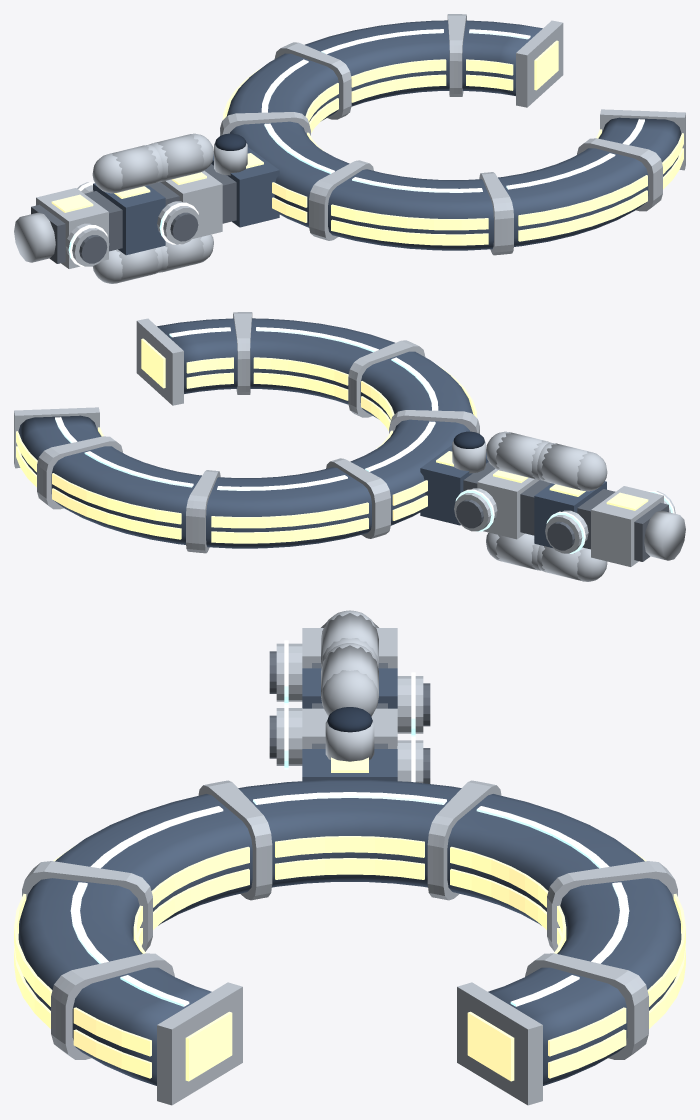
File: station-orbital-depot.glb
3 views of the same model, one above another, from view 1: azimuth 30°, elevation 25°; view 2: azimuth 150°, elevation 25°; view 3: azimuth 270°, elevation 25° (orthographic). The views are drawn at different scales.
Visible parts, largest first — view 1: concourse, spine, berth_2, berth_4; view 2: concourse, spine, berth_1, berth_3; view 3: concourse, spine, berth_4, berth_2, berth_3, berth_1.
Part boxes in pixels (x1=…): concourse: x1=220, y1=14, x2=685, y2=255; spine: x1=14, y1=133, x2=279, y2=283; berth_2: x1=157, y1=201, x2=200, y2=244; berth_4: x1=66, y1=223, x2=109, y2=266; concourse: x1=14, y1=312, x2=479, y2=553; spine: x1=420, y1=431, x2=685, y2=581; berth_1: x1=454, y1=488, x2=497, y2=531; berth_3: x1=545, y1=510, x2=588, y2=553; concourse: x1=14, y1=779, x2=685, y2=1105; spine: x1=302, y1=610, x2=397, y2=781; berth_4: x1=269, y1=640, x2=302, y2=704; berth_2: x1=269, y1=704, x2=302, y2=769; berth_3: x1=397, y1=672, x2=430, y2=736; berth_1: x1=397, y1=737, x2=430, y2=783.
Bounding box in the file's own units: 1 × 0.2023 × 0.67.
